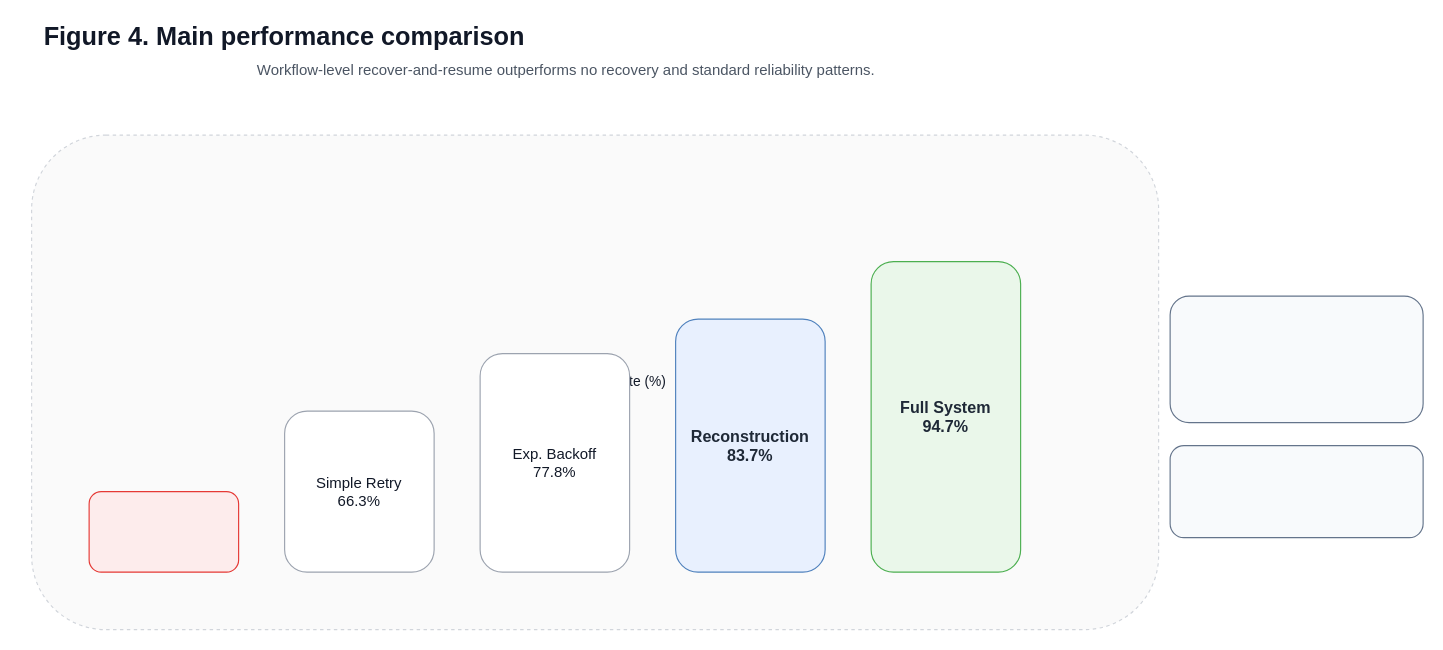
This 1443x650 diagram has some shape labels left out. The centre of each missing label's shape, as x and y in pixels:
Key deltas +59.0 pp vs No Recovery +16.9 pp vs Exp. Backoff: (1296,359)
No Recovery 35.7%: (163,531)
Synthetic MTTR-A Full System: 0.139 s: (1296,491)
